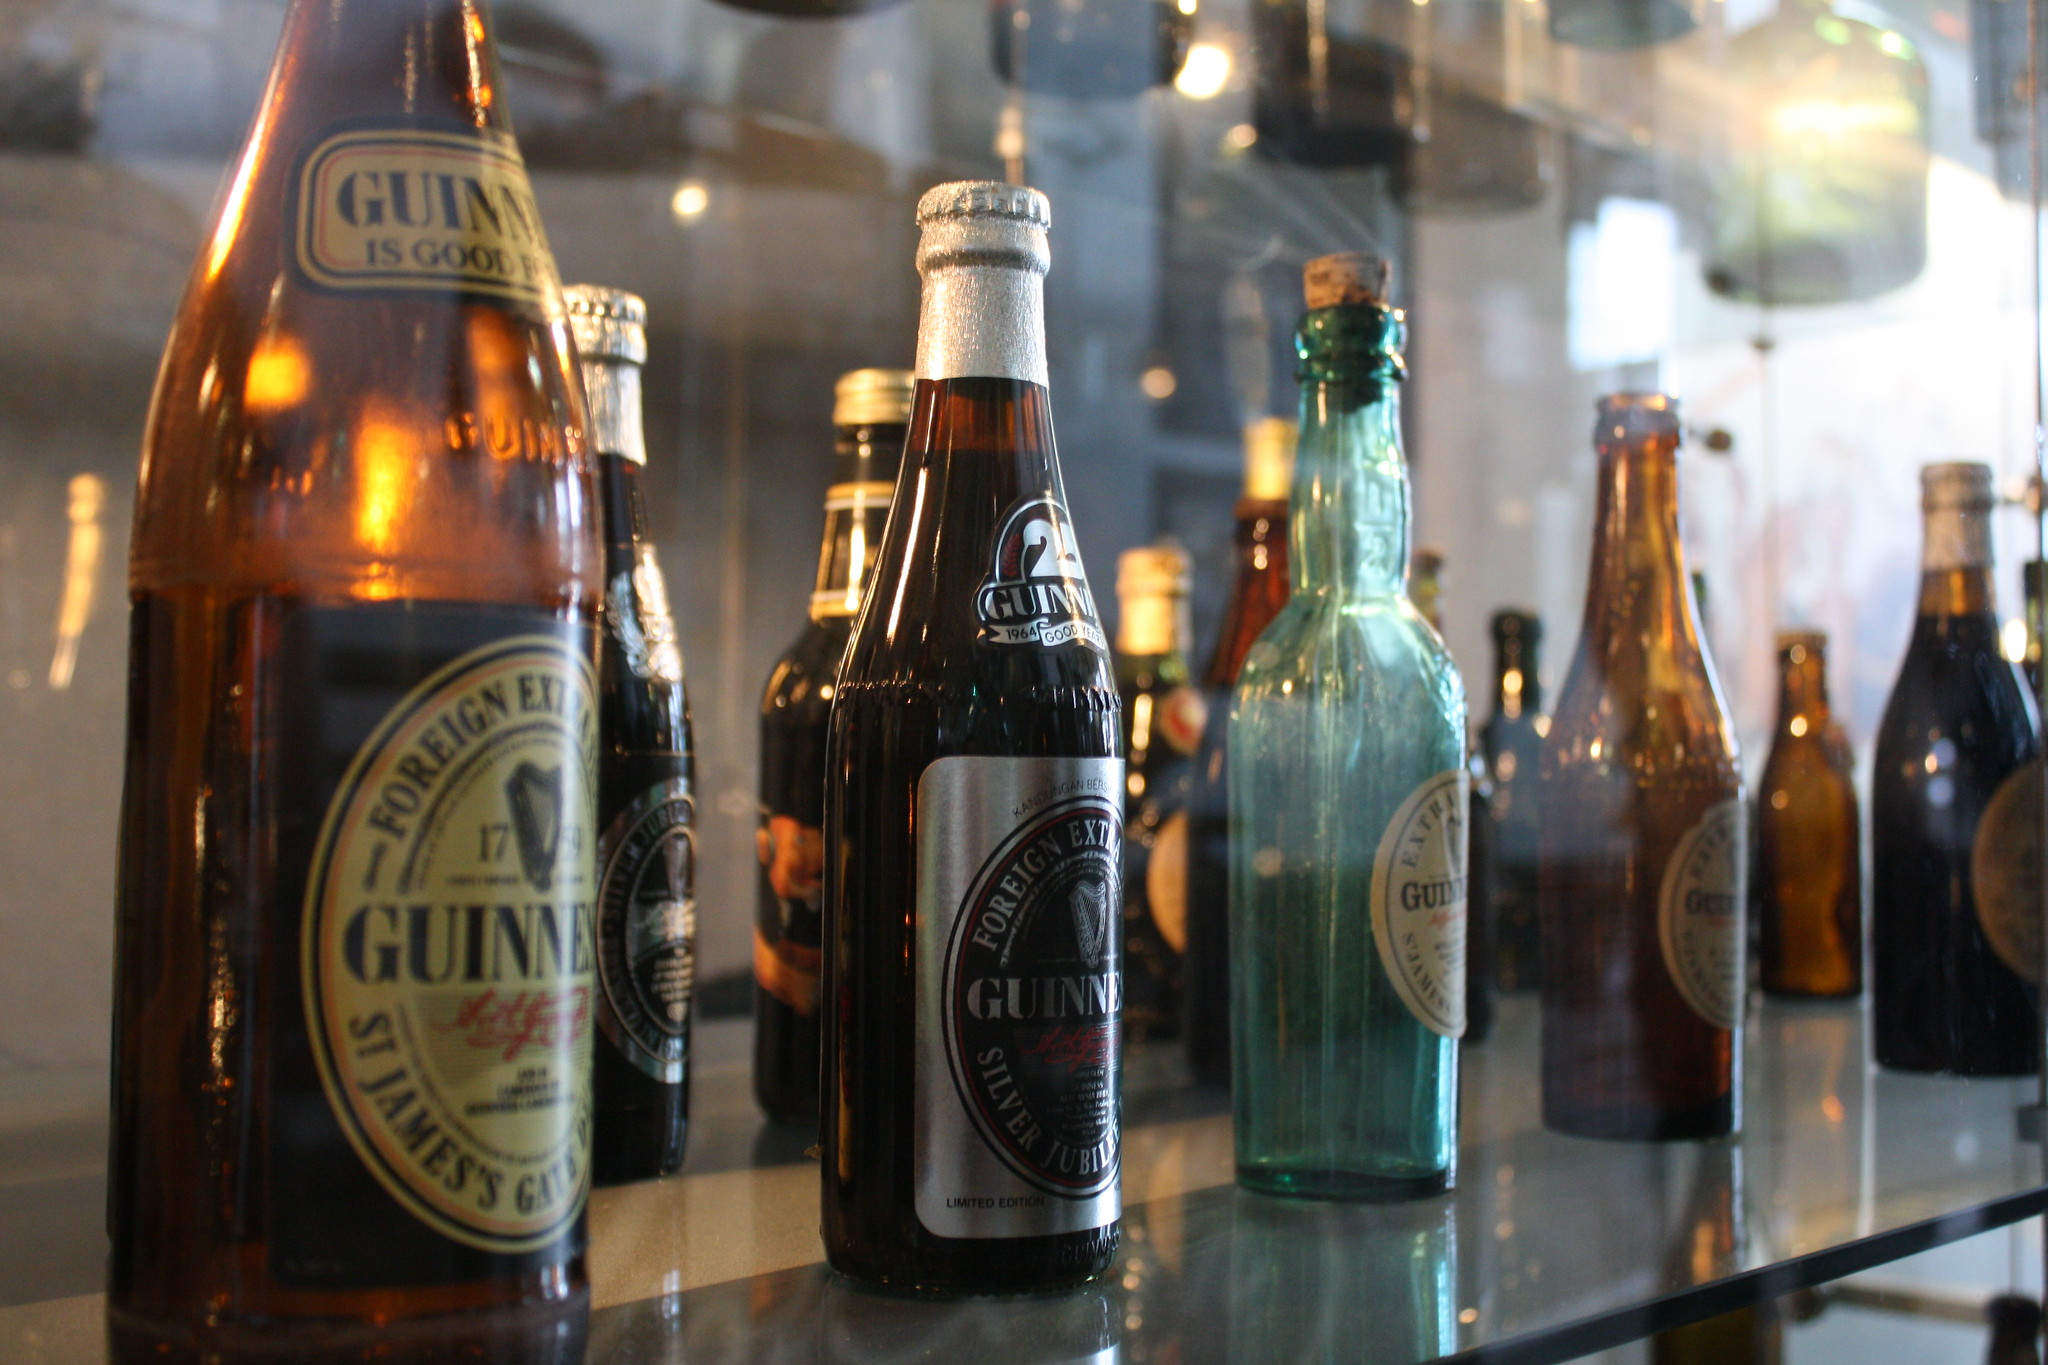bottle: (113, 5, 618, 1365), (830, 178, 1127, 1290), (1233, 259, 1463, 1216), (1564, 395, 1750, 1138), (1884, 456, 2048, 1076)
